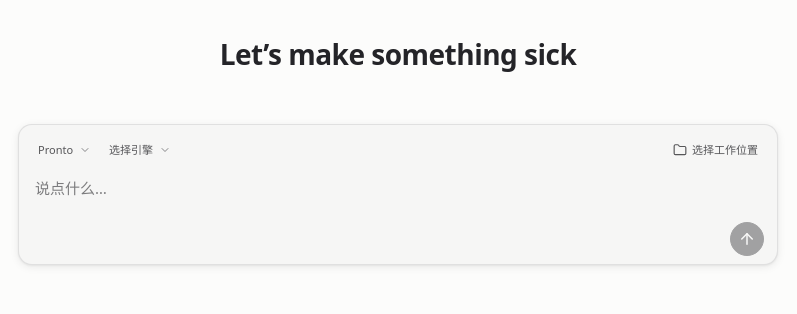
Scenario: 全局引擎在项目中选用 › lets an empty project select a global engine and retry a failed association
Click the button "选择引擎". click: click(140, 150)
box: [101,136,179,164]
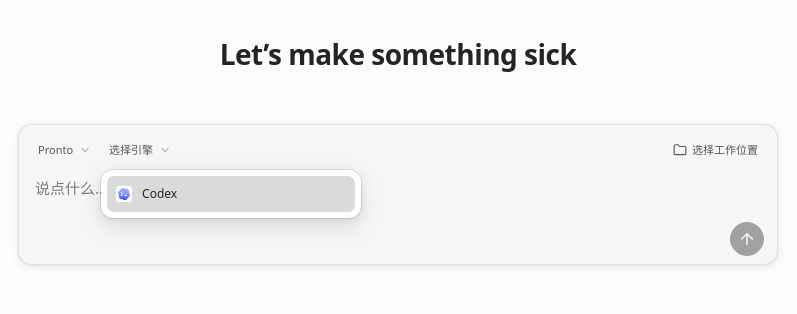
Click the option "Codex". click: click(231, 194)
box: [107,176,355,212]
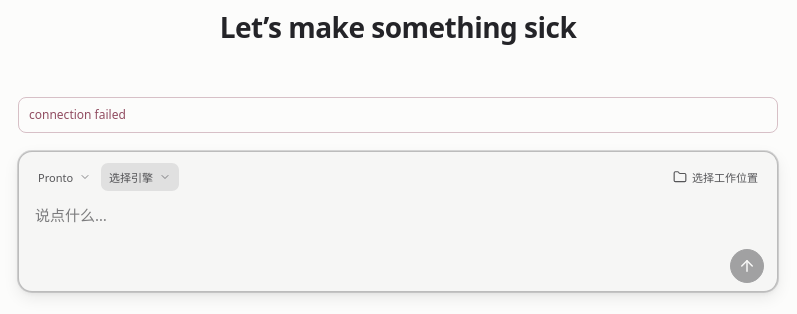
Now the message reads "connection failed", box [29,106,126,123]
Type "unsent draft" into the text box named "消息". click: (398, 223)
box: [35,201,761,245]
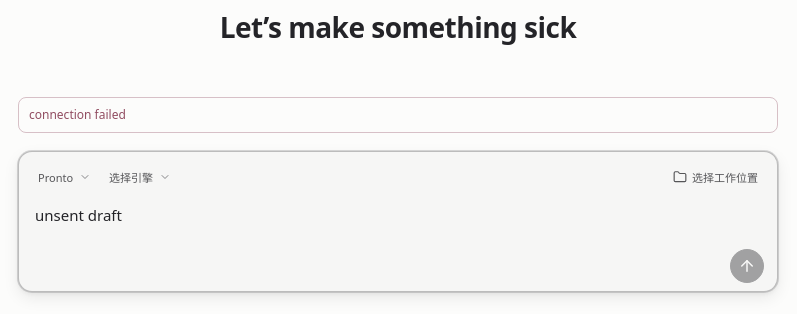
Expected: the button named "发送" is disabled, [730,249,764,283]
Click the button "选择引擎". click: click(140, 177)
box: [101,163,179,191]
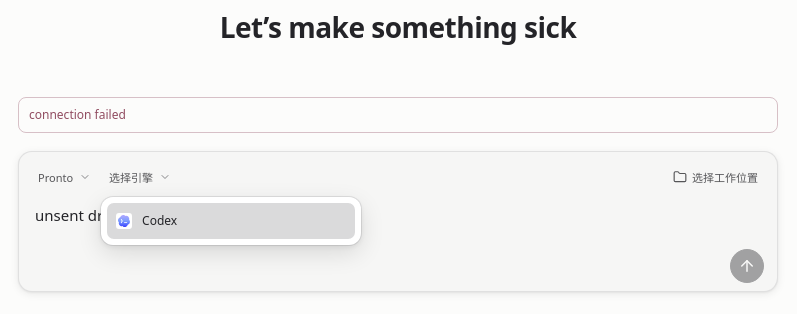
Click the option "Codex". click: click(231, 221)
box: [107,203,355,239]
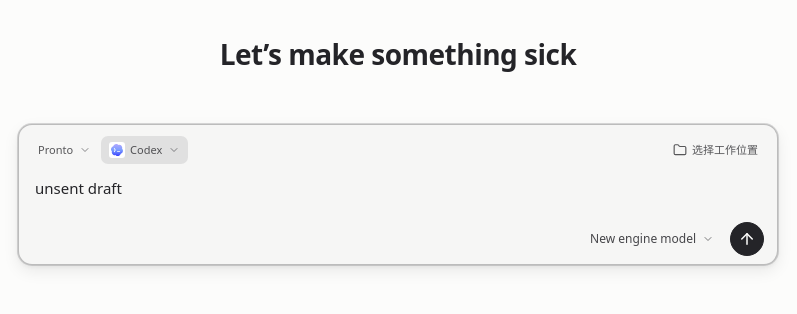
Now the button with aria-label "模型" reads "New engine model", box [582,225,722,254]
Now the button named "发送" is enabled, box [730,222,764,256]
